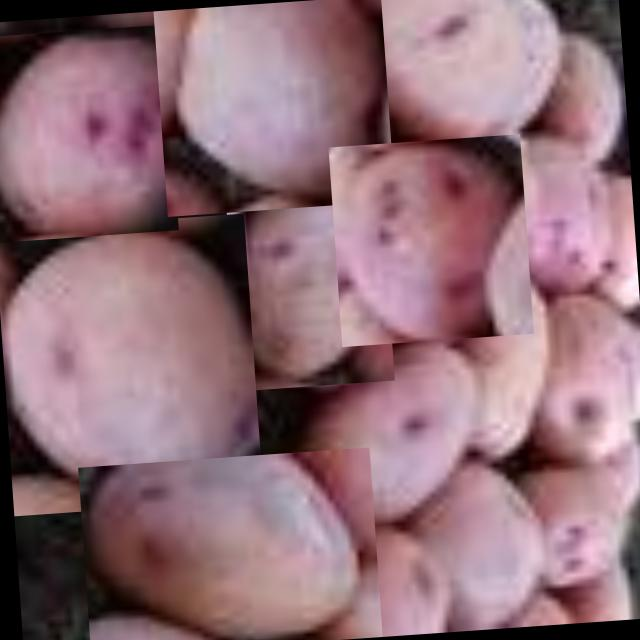Diseased-fungal potato: (0, 213, 262, 516), (76, 447, 381, 640), (152, 0, 394, 216), (327, 134, 532, 346), (0, 24, 177, 242), (296, 338, 489, 528), (224, 178, 394, 390)
